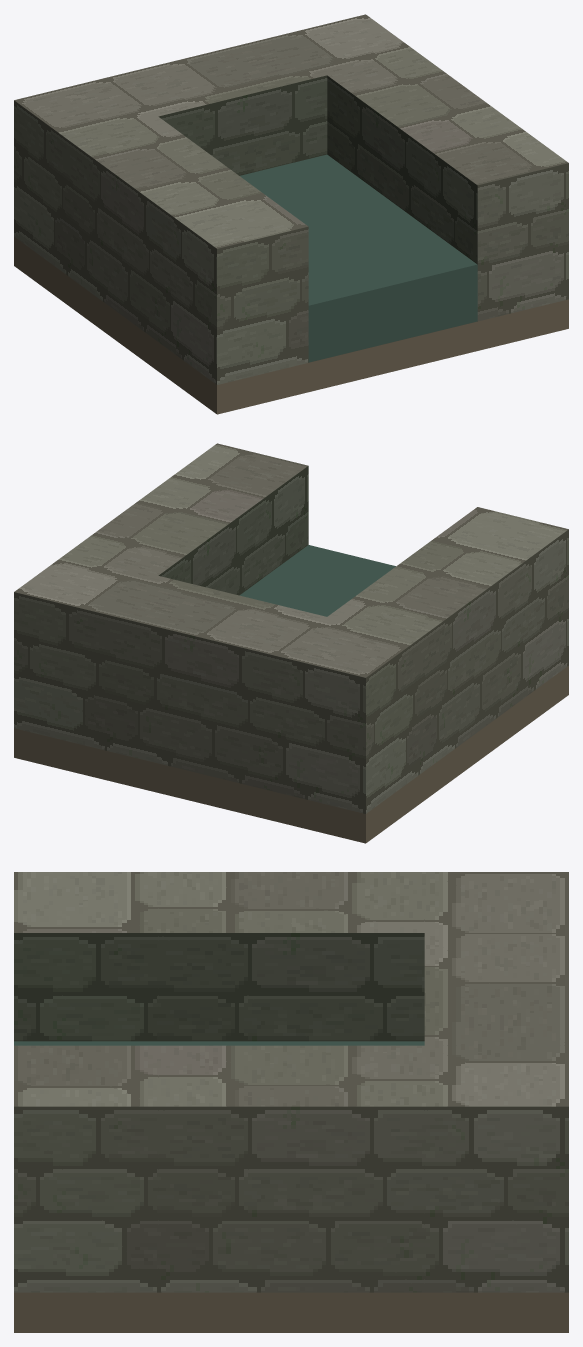
The model's file is blind_sump.glb.
The picture shows the model from 3 angles, top to bottom: view 1: azimuth 30°, elevation 25°; view 2: azimuth 150°, elevation 25°; view 3: azimuth 270°, elevation 25°; orthographic projection. The views are drawn at different scales.
Parts seen in each view (by area): view 1: Blind sump; view 2: Blind sump; view 3: Blind sump.
Boxes of the visible parts, x1,y1,x2,y2 form: Blind sump: [14, 14, 568, 414]; Blind sump: [14, 443, 568, 843]; Blind sump: [14, 872, 568, 1332].
Bounding box in the file's own units: 2 × 0.9 × 2.
Materials: 6 (3 with a texture image).
